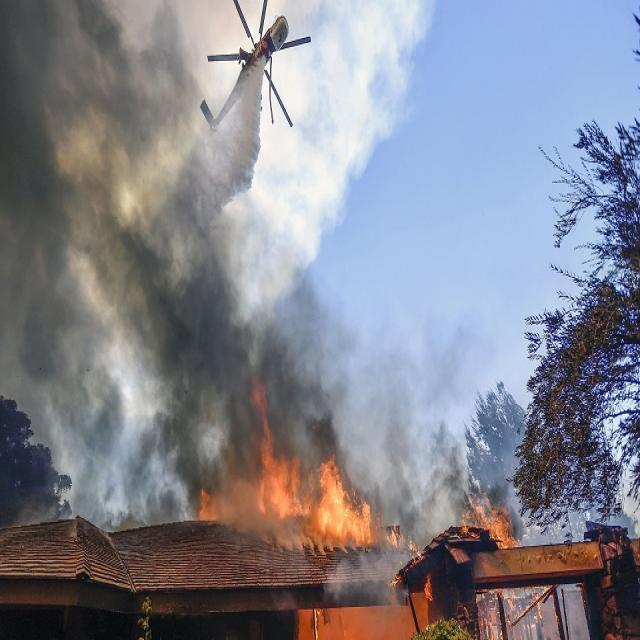Fire: (198, 374, 382, 546), (380, 496, 525, 604)
Smoke: (0, 0, 196, 517), (198, 68, 354, 374), (384, 322, 484, 496)
